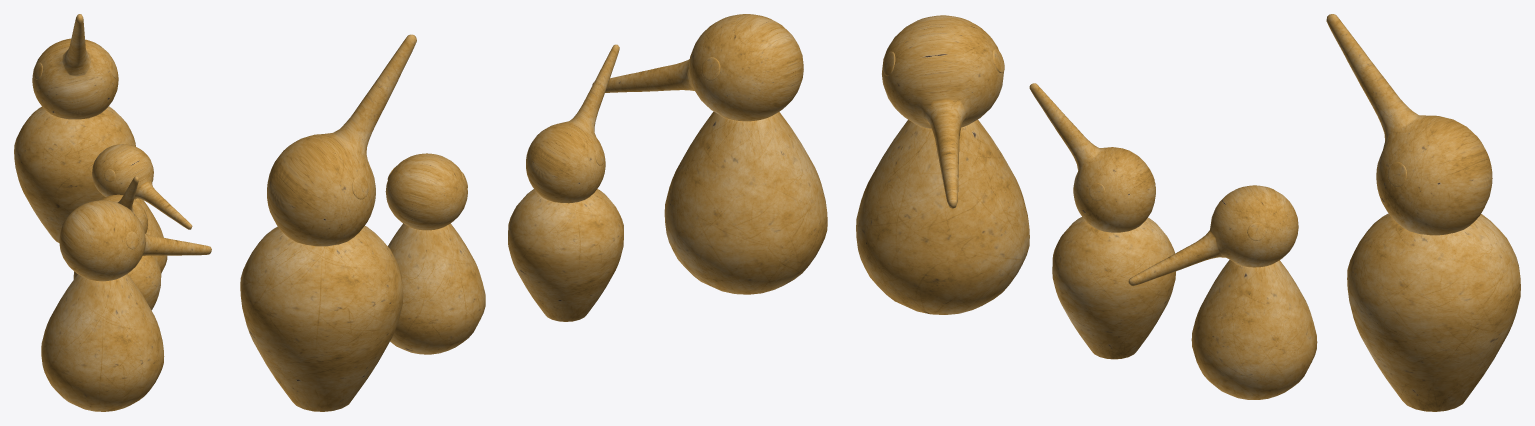
File: patos.obj
3 views of the same model, side by side, from view 1: azimuth 30°, elevation 25°; view 2: azimuth 150°, elevation 25°; view 3: azimuth 270°, elevation 25° (orthographic). The views are drawn at different scales.
Parts seen in each view (by area): view 1: AI36_007_toy04; view 2: AI36_007_toy04; view 3: AI36_007_toy04.
Boxes of the visible parts, <box> form: AI36_007_toy04: <box>14,14,211,411</box>; AI36_007_toy04: <box>240,14,827,411</box>; AI36_007_toy04: <box>856,14,1520,411</box>.
Bounding box in the file's own units: 0.2379 × 0.2307 × 0.3822.
1 material, 1 textured.
